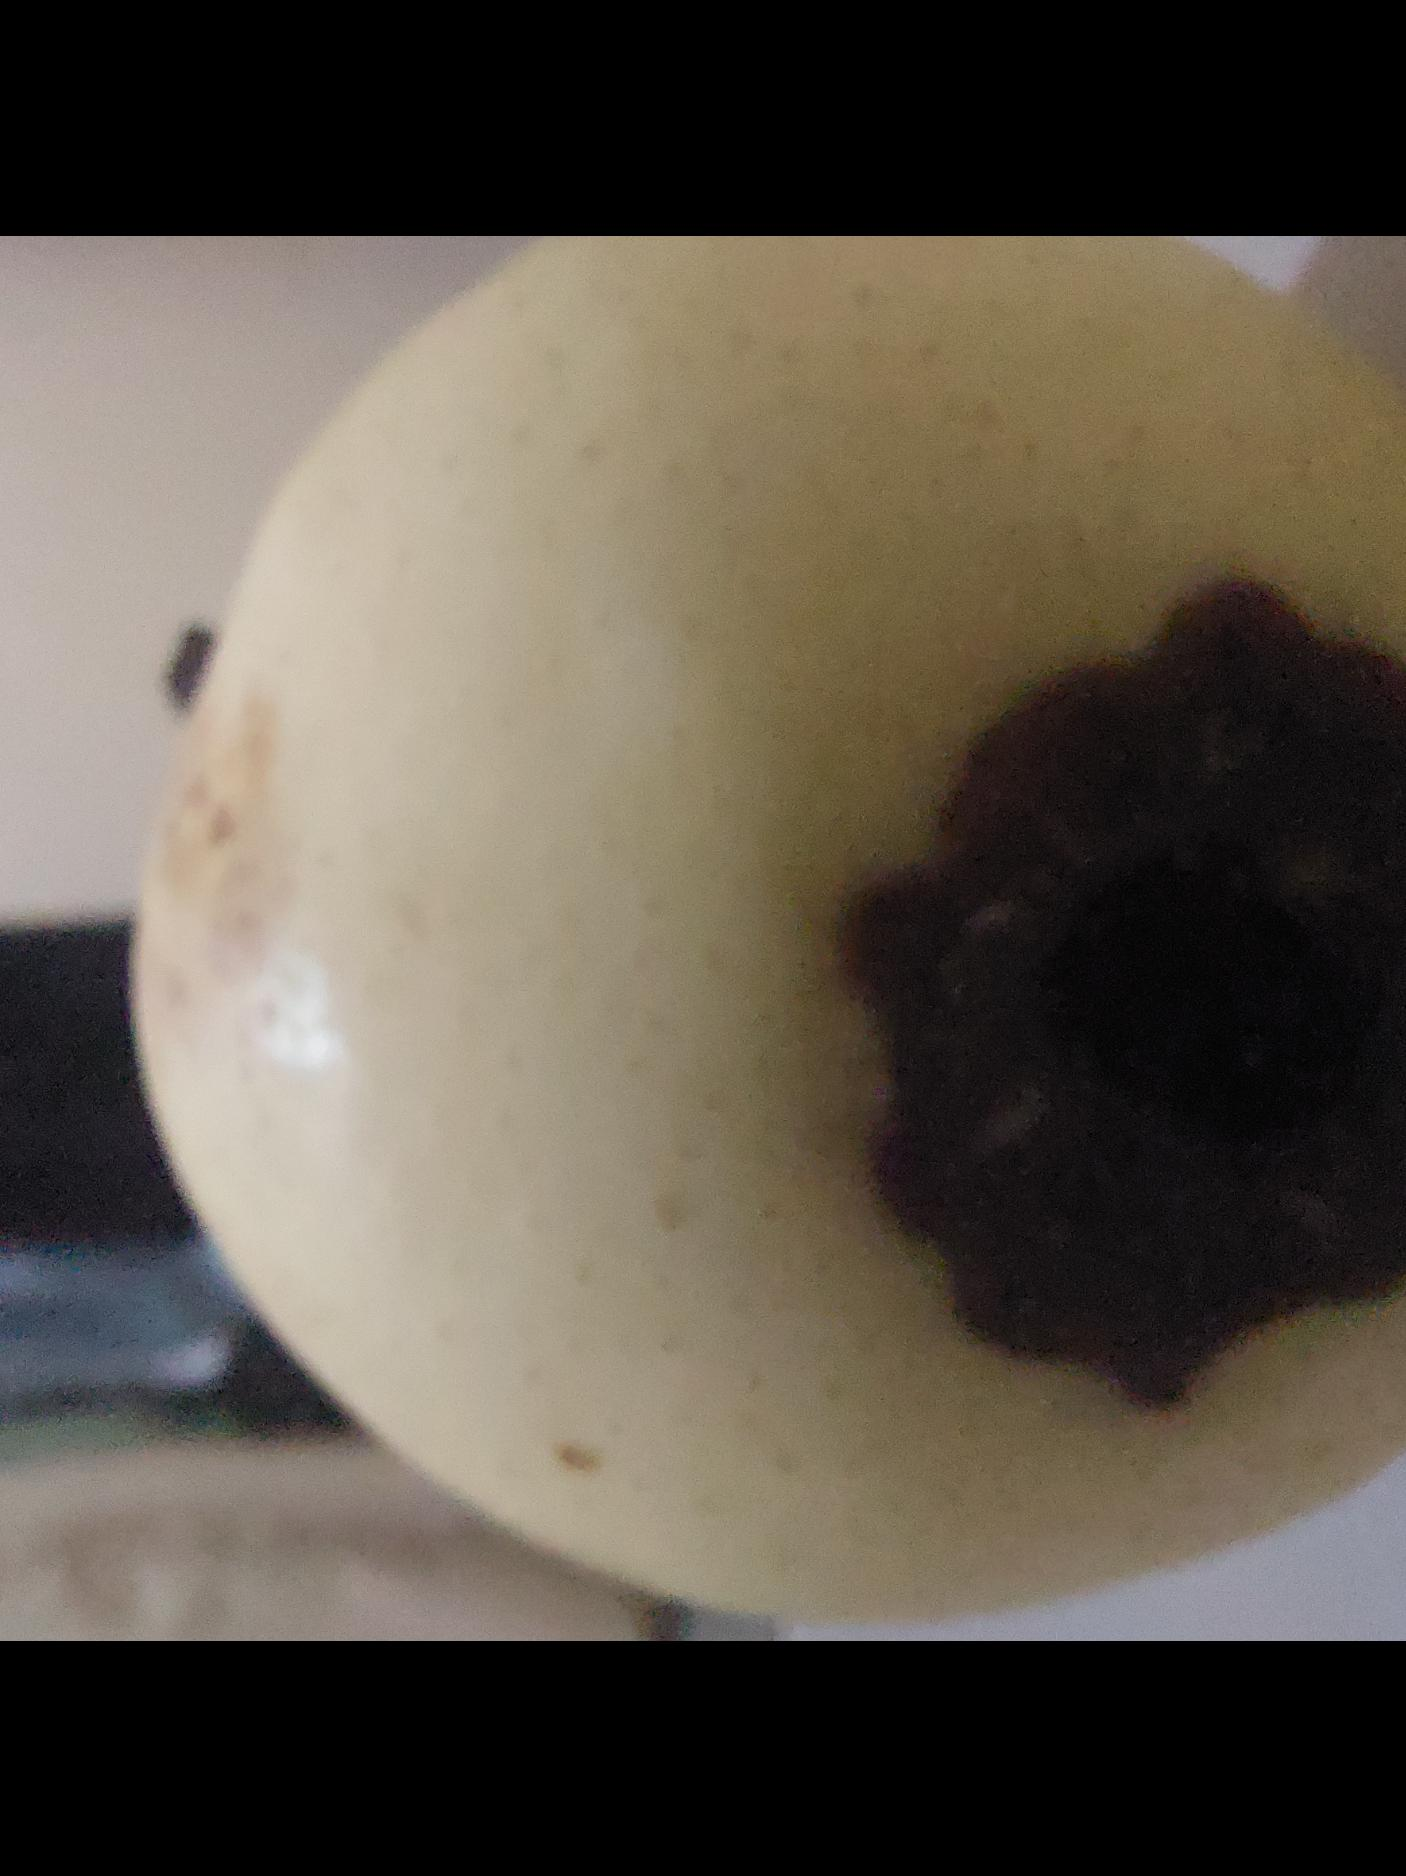Bad Pear: (109, 235, 1406, 1637)
